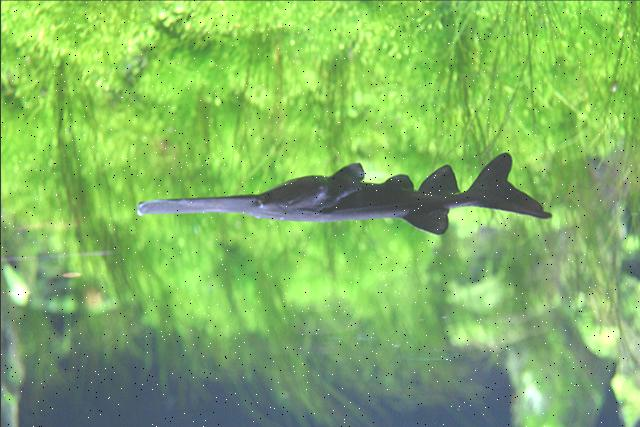Sirip Anal: (412, 156, 460, 202)
Sirip Dada: (320, 150, 374, 202)
Sirip Ekor: (466, 144, 562, 229)
Sirip Perut: (379, 166, 413, 202)
Sirip Punggung: (400, 204, 458, 248)
